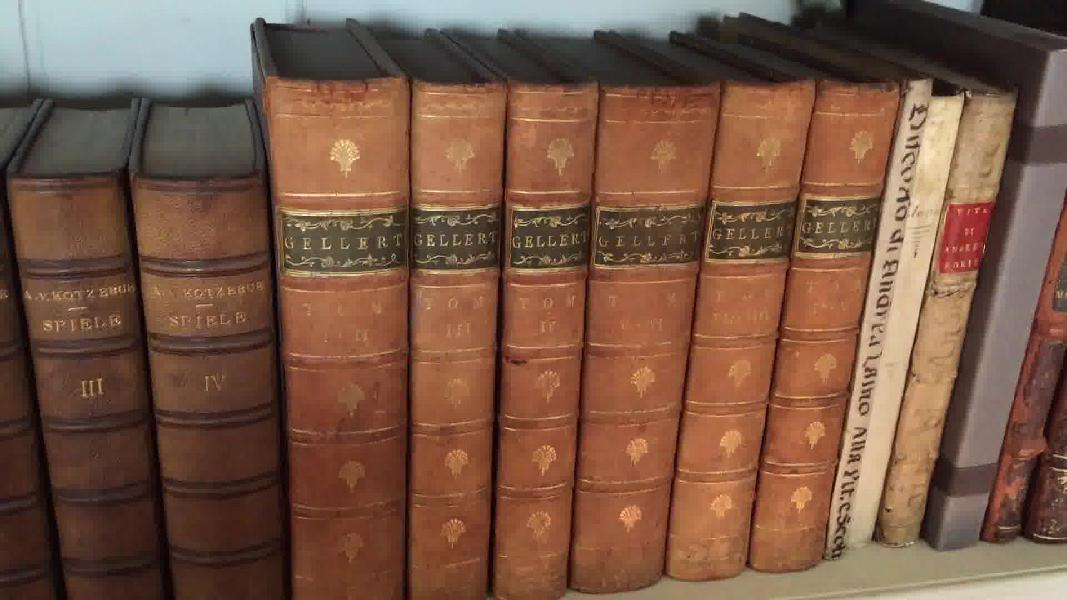Aa6-18_23: (262, 69, 892, 600)
Aa6-24: (829, 54, 940, 571)
Aa6-25: (854, 52, 981, 552)
Aa6-26: (873, 55, 1012, 558)
